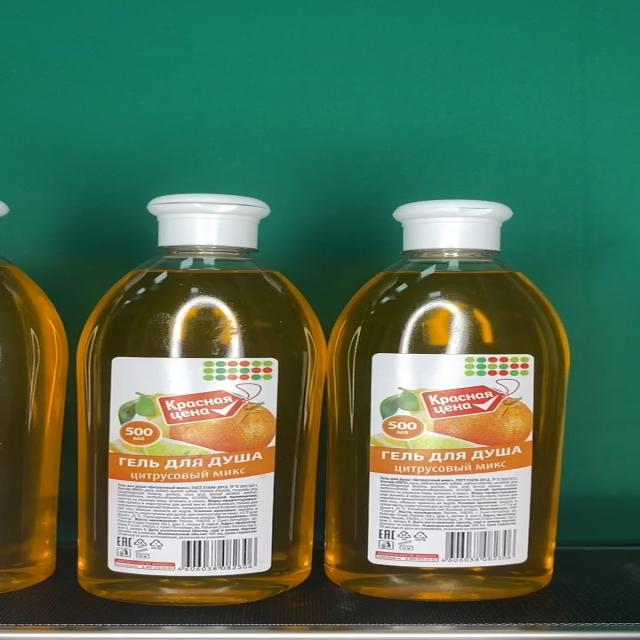Bottle: (75, 193, 328, 605), (328, 199, 570, 602)
Cap: (148, 194, 273, 246), (390, 200, 514, 252)
